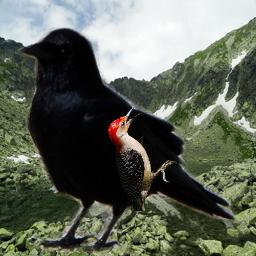Crow: (14, 25, 242, 254)
Woodpecker: (108, 106, 177, 211)
